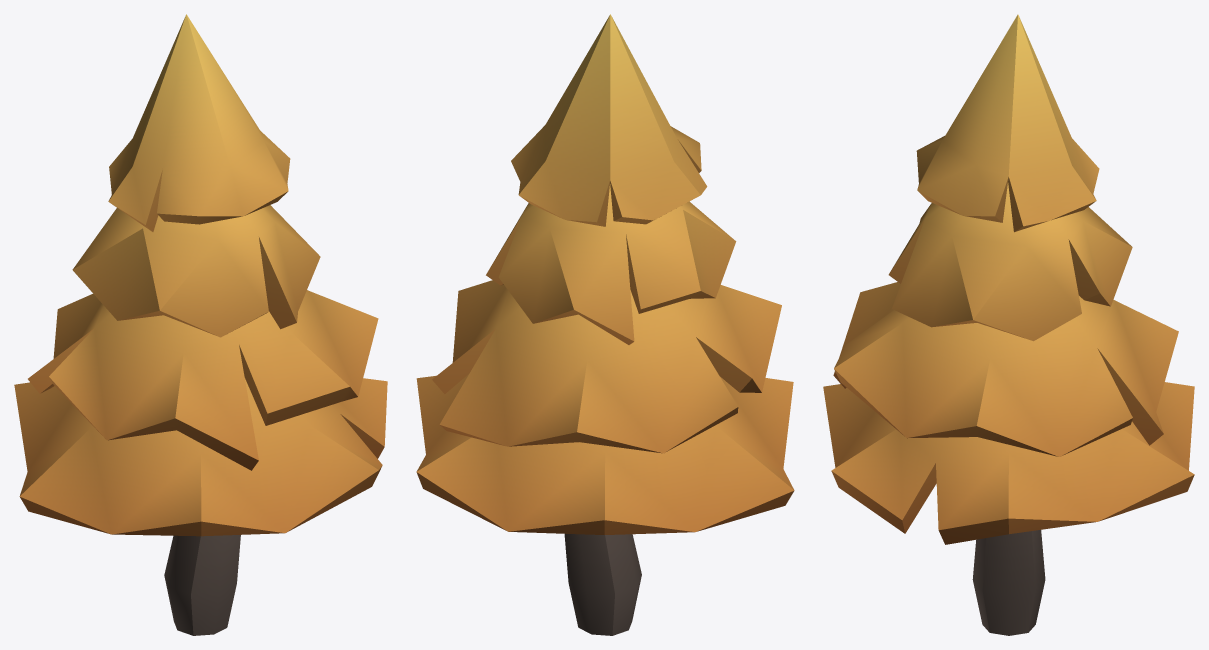
Rendered from tree_pine_yellow_large.obj.
3 renders of one model, left to right at view 1: azimuth 30°, elevation 25°; view 2: azimuth 150°, elevation 25°; view 3: azimuth 270°, elevation 25°, orthographic.
Visible parts, largest first — view 1: tree_pine_yellow_large_Cube.084; view 2: tree_pine_yellow_large_Cube.084; view 3: tree_pine_yellow_large_Cube.084.
Boxes of the visible parts, bbox=[...] form: tree_pine_yellow_large_Cube.084: bbox=[14, 14, 387, 635]; tree_pine_yellow_large_Cube.084: bbox=[416, 14, 794, 635]; tree_pine_yellow_large_Cube.084: bbox=[823, 14, 1194, 635].
Bounding box in the file's own units: 4.76 × 7.48 × 4.15.
Materials: 1 (1 with a texture image).
